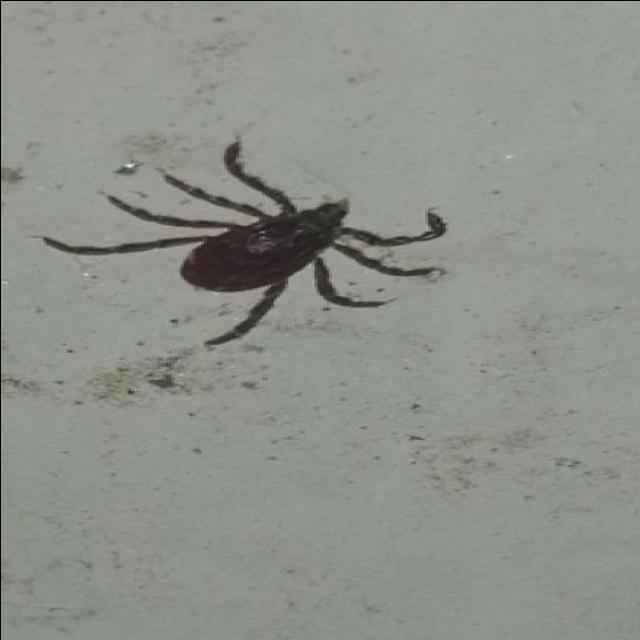Rhipicephalus Sanguineus-M: (44, 141, 446, 345)
